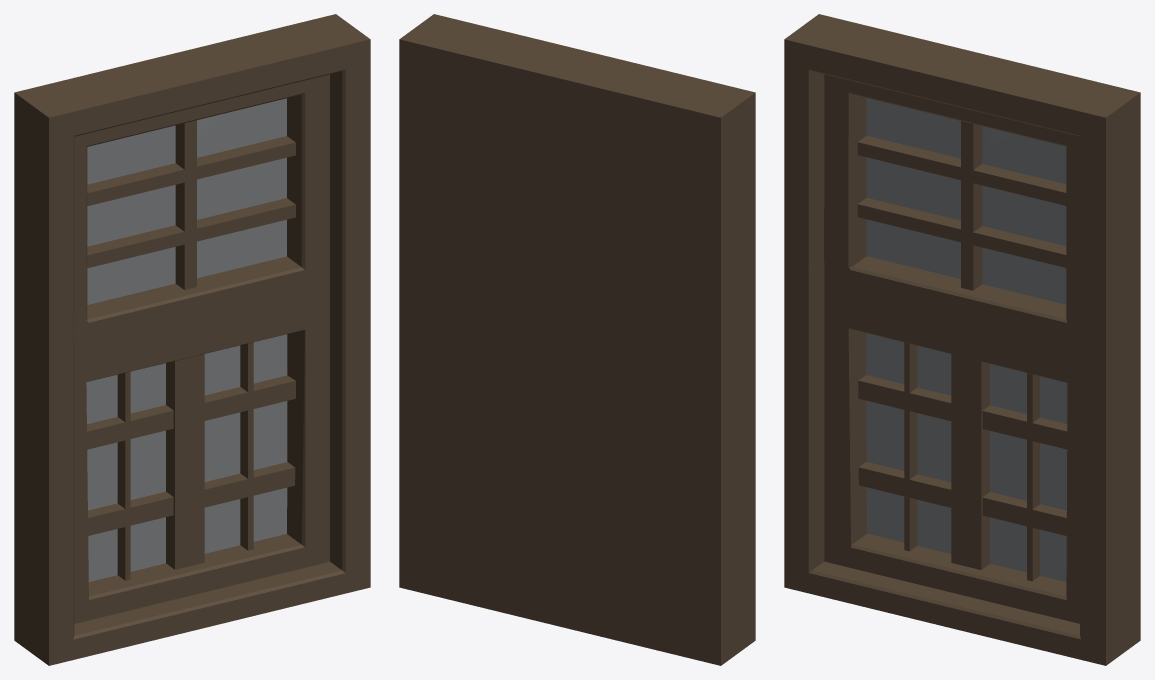
Rendered from window 3.fbx.
The picture shows the model from 3 angles, left to right: view 1: azimuth 30°, elevation 25°; view 2: azimuth 150°, elevation 25°; view 3: azimuth 330°, elevation 25°; orthographic projection.
Parts seen in each view (by area): view 1: polySurface26; view 2: polySurface26; view 3: polySurface26.
Boxes of the visible parts, bbox=[...] form: polySurface26: bbox=[14, 14, 370, 665]; polySurface26: bbox=[399, 14, 755, 665]; polySurface26: bbox=[784, 14, 1140, 665].
Bounding box in the file's own units: 0.5978 × 0.9736 × 0.1115.
Materials: 1 (1 with a texture image).
